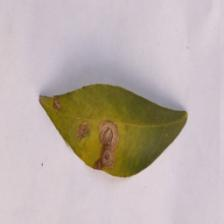canker: (43, 88, 121, 171)
